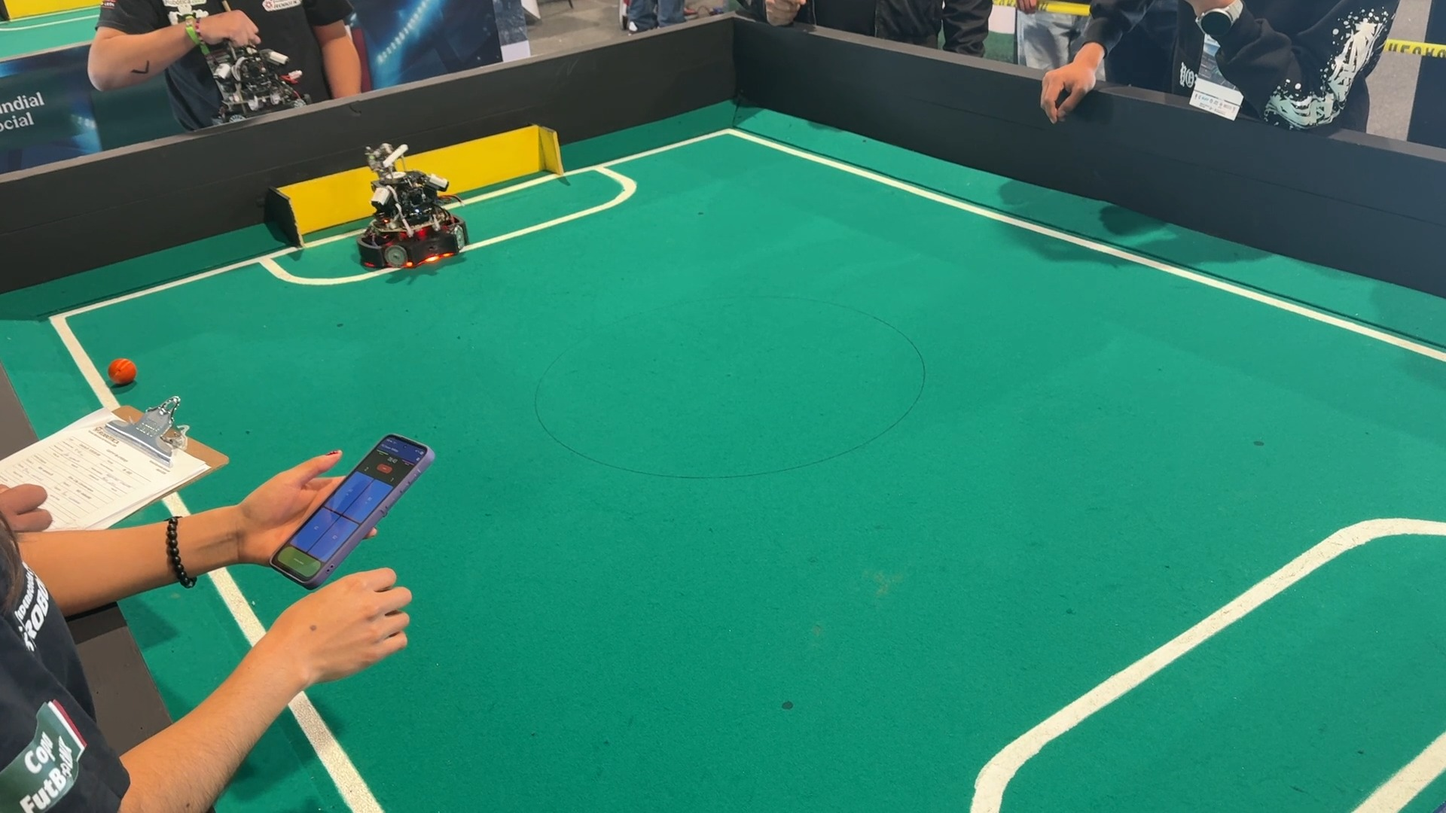Robot: (358, 128, 468, 289)
pelota: (101, 354, 144, 390)
